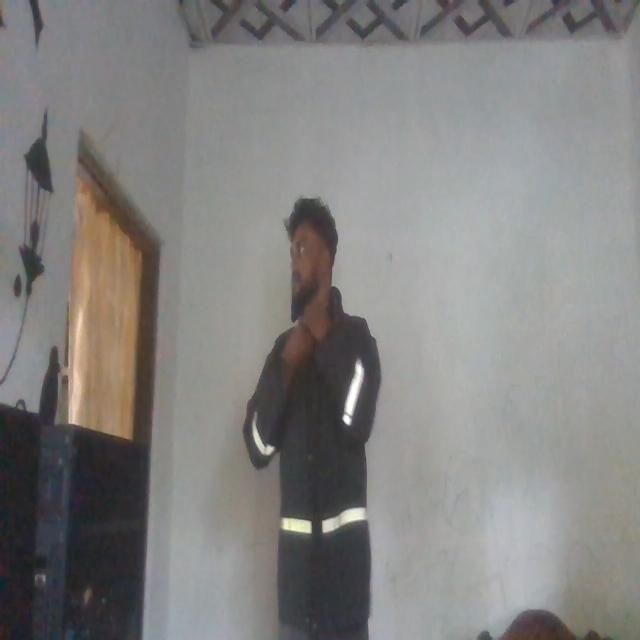Jacket_Wearer: (236, 300, 388, 640)
Person: (238, 190, 388, 640)
